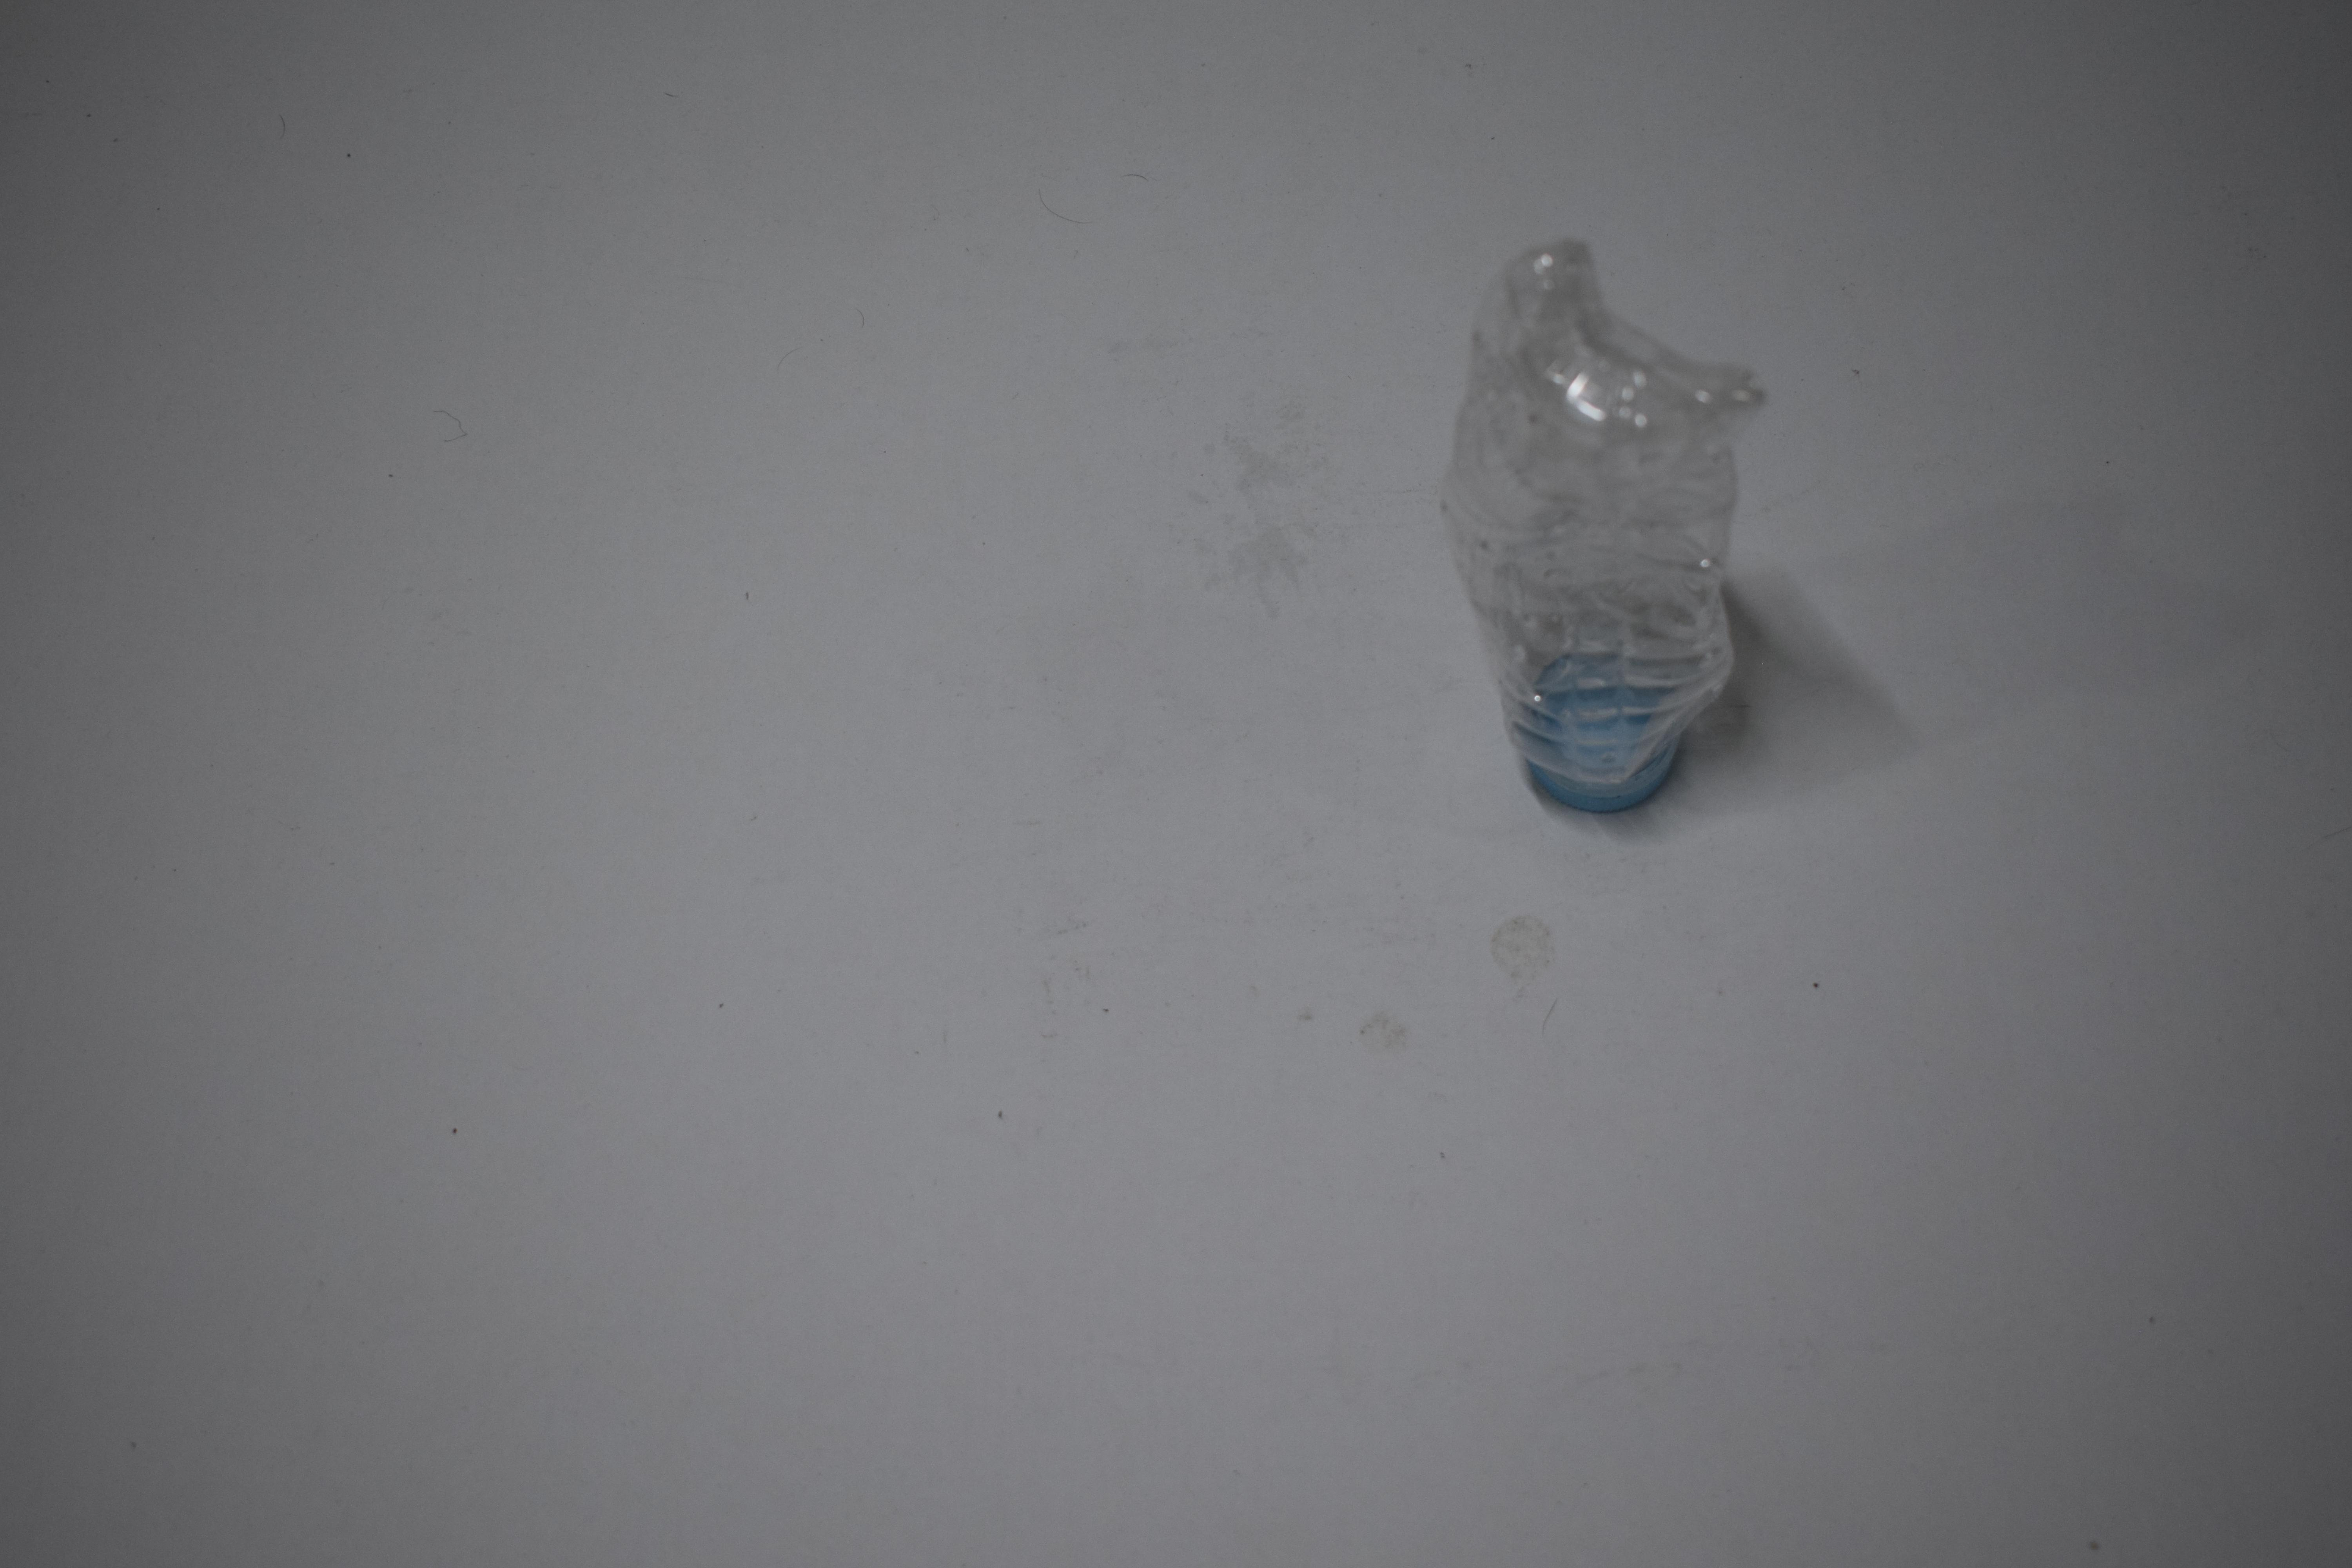bottle: (1431, 228, 1776, 819)
